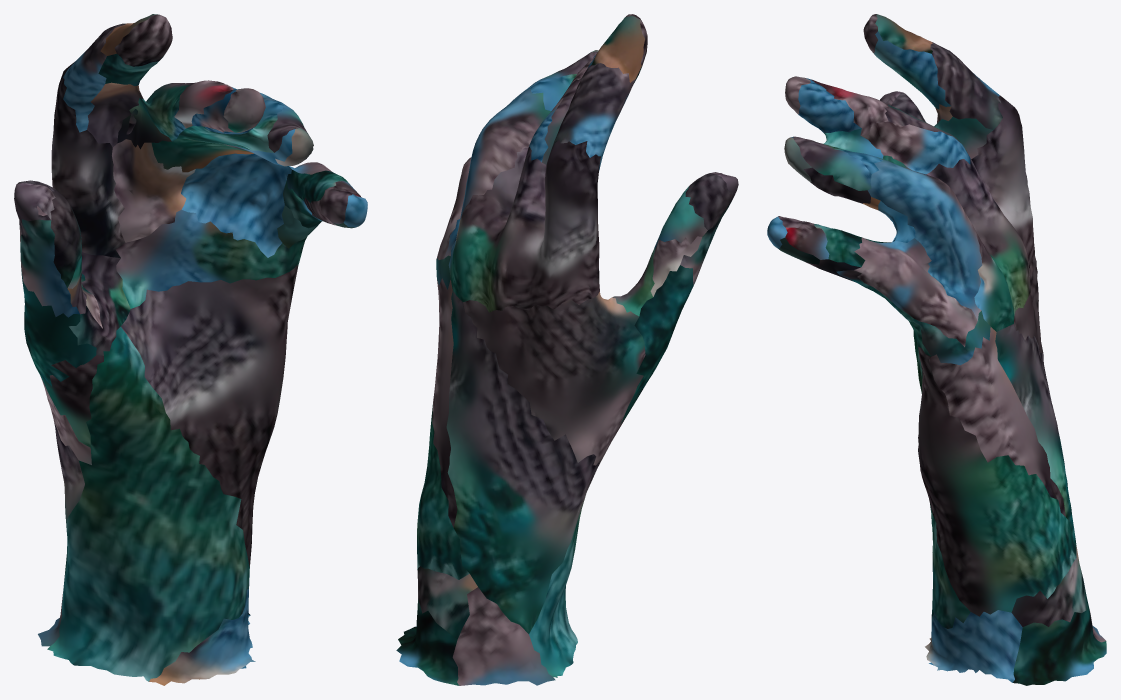
File: whitehand_editedBlender.fbx
3 renders of one model, left to right at view 1: azimuth 30°, elevation 25°; view 2: azimuth 150°, elevation 25°; view 3: azimuth 270°, elevation 25°, orthographic. The views are drawn at different scales.
Parts seen in each view (by area): view 1: object; view 2: object; view 3: object.
Boxes of the visible parts, x1=… form: object: x1=14, y1=14, x2=367, y2=685; object: x1=396, y1=14, x2=738, y2=685; object: x1=767, y1=14, x2=1106, y2=685.
Size of the model in its own units: 26.77 by 56.7 by 29.1.
